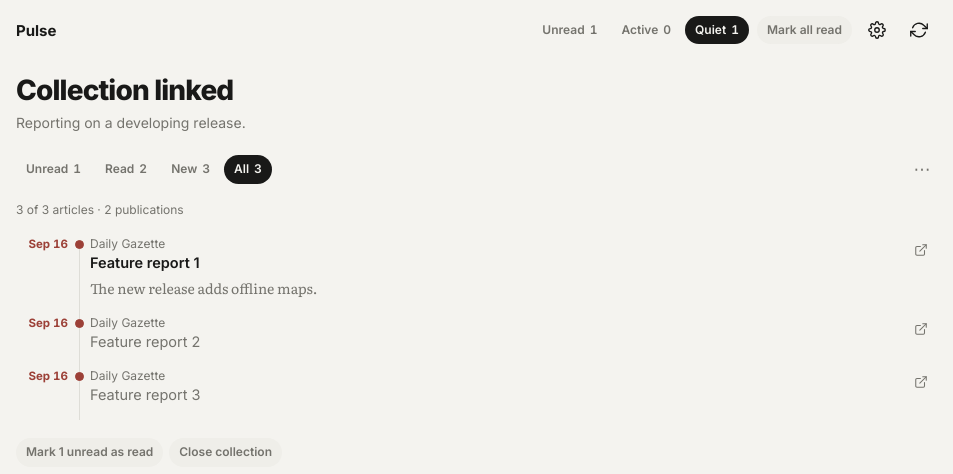
Test: Pulse collection size and catch-up › opens a digest link to its collection and shows supported excerpts and clear filtered counts
This screenshot has width=953, height=474.
Expected: the text "The new release adds offline maps." is shown, x1=90 y1=278 x2=318 y2=298
Click the button "Unread 1" below "Reporting on a developing release.": click(54, 170) x1=16 y1=155 x2=91 y2=184
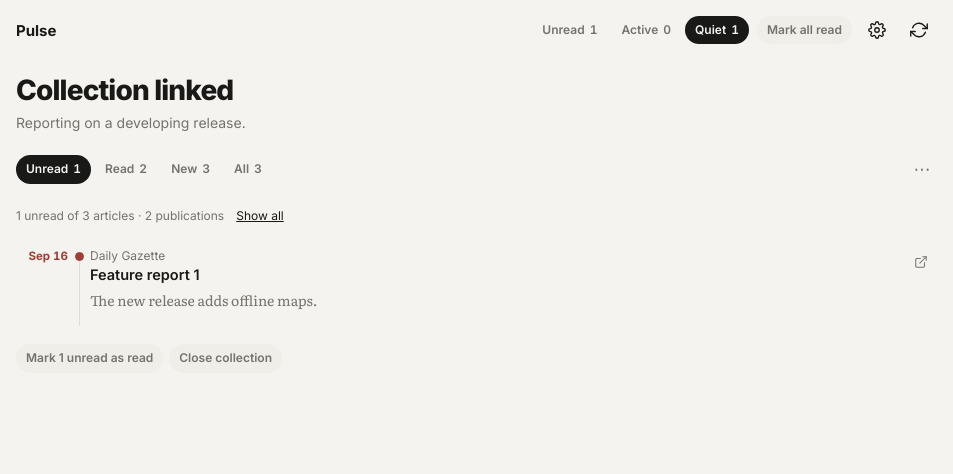
Now the element showing "1 unread of 3 articles · 2 publications Show all" is shown, box x1=16 y1=202 x2=284 y2=229
Click the button "Show all": click(260, 216) x1=236 y1=202 x2=284 y2=229
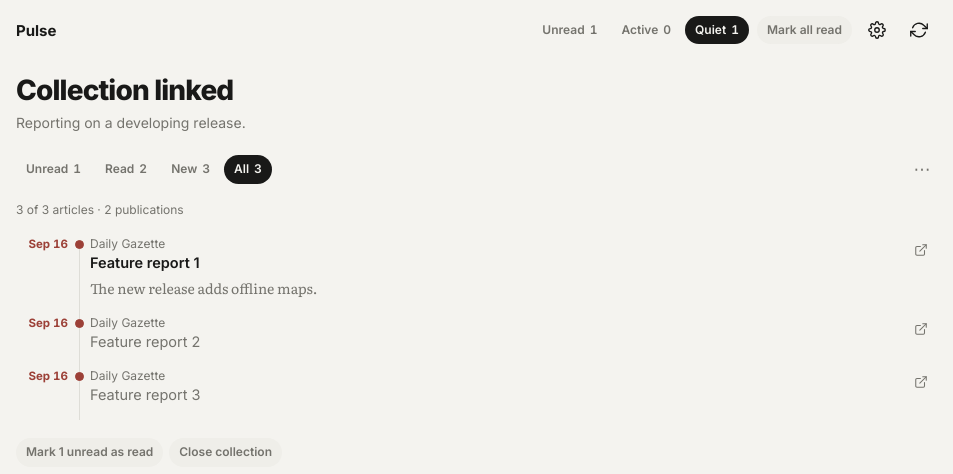
Now the number of list items is 3, box x1=16 y1=235 x2=936 y2=314; x1=16 y1=314 x2=936 y2=367; x1=16 y1=367 x2=936 y2=420
